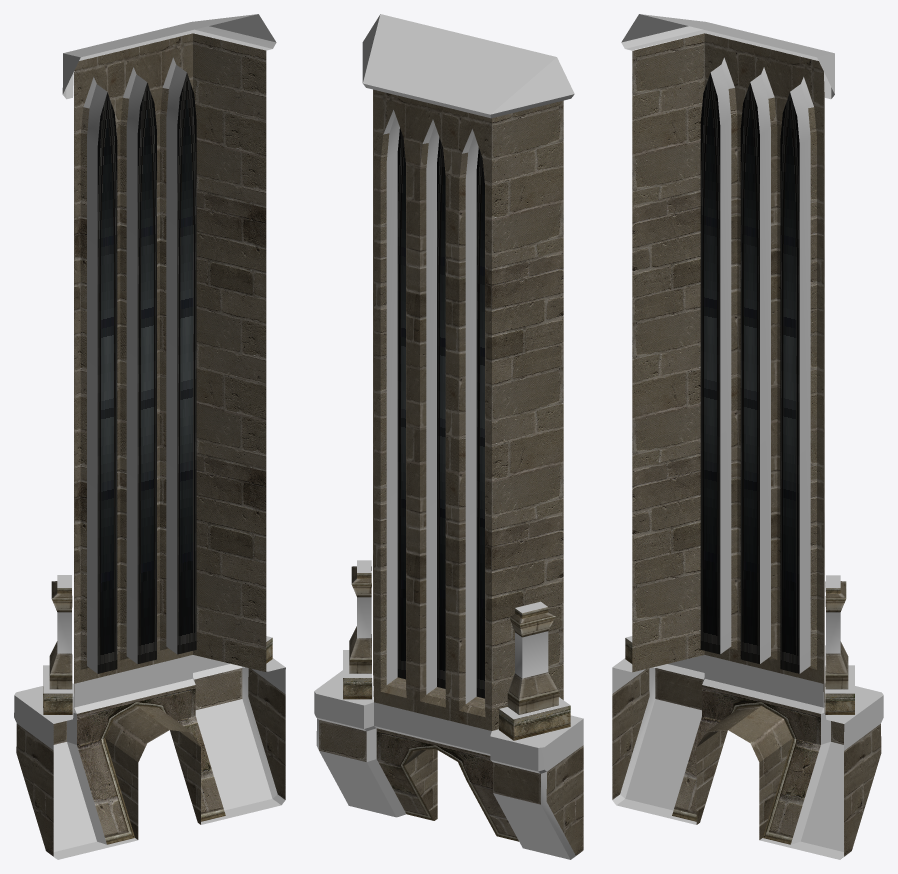
The model's file is SM_Tower_WindowDetail_02.FBX.
3 views of the same model, side by side, from view 1: azimuth 30°, elevation 25°; view 2: azimuth 150°, elevation 25°; view 3: azimuth 330°, elevation 25° (orthographic).
Visible parts, largest first — view 1: SM_Tower_WindowDetail_02; view 2: SM_Tower_WindowDetail_02; view 3: SM_Tower_WindowDetail_02.
Part boxes in pixels (left/top/right/bottom): SM_Tower_WindowDetail_02: left=14, top=14, right=285, bottom=859; SM_Tower_WindowDetail_02: left=314, top=14, right=583, bottom=859; SM_Tower_WindowDetail_02: left=612, top=14, right=883, bottom=859.
Size of what is drawn, in the model's own units: 515 by 163 by 1692.
